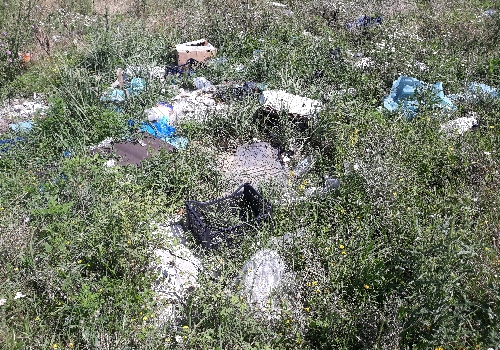trash: (88, 35, 324, 258), (382, 55, 495, 144)
